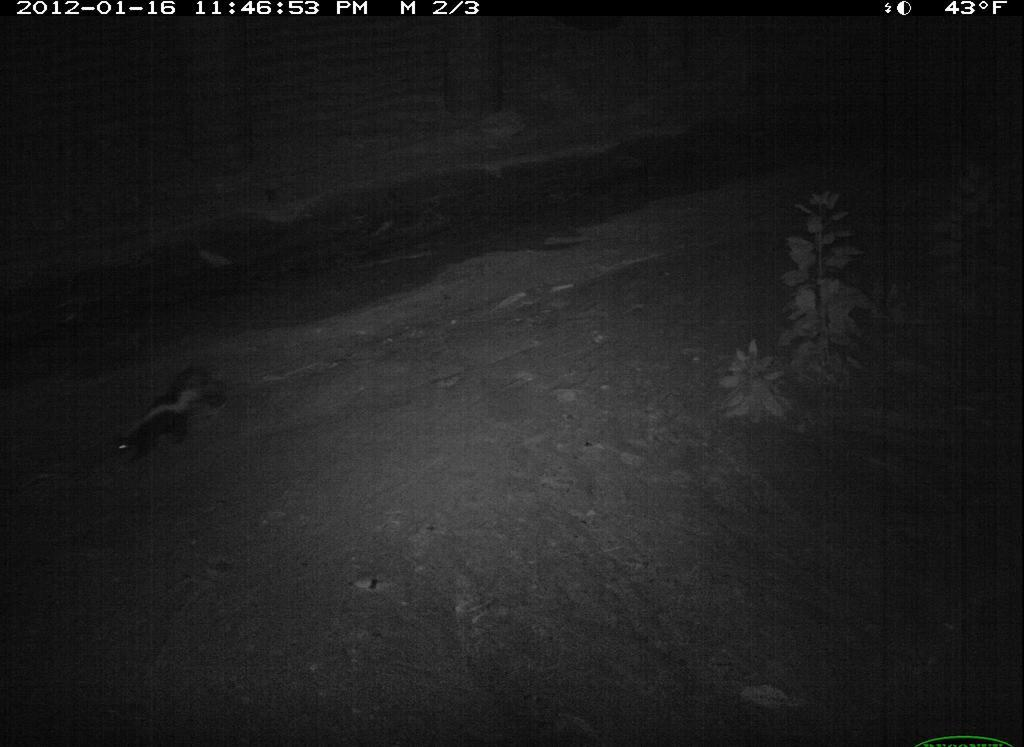skunk: (89, 351, 227, 482)
